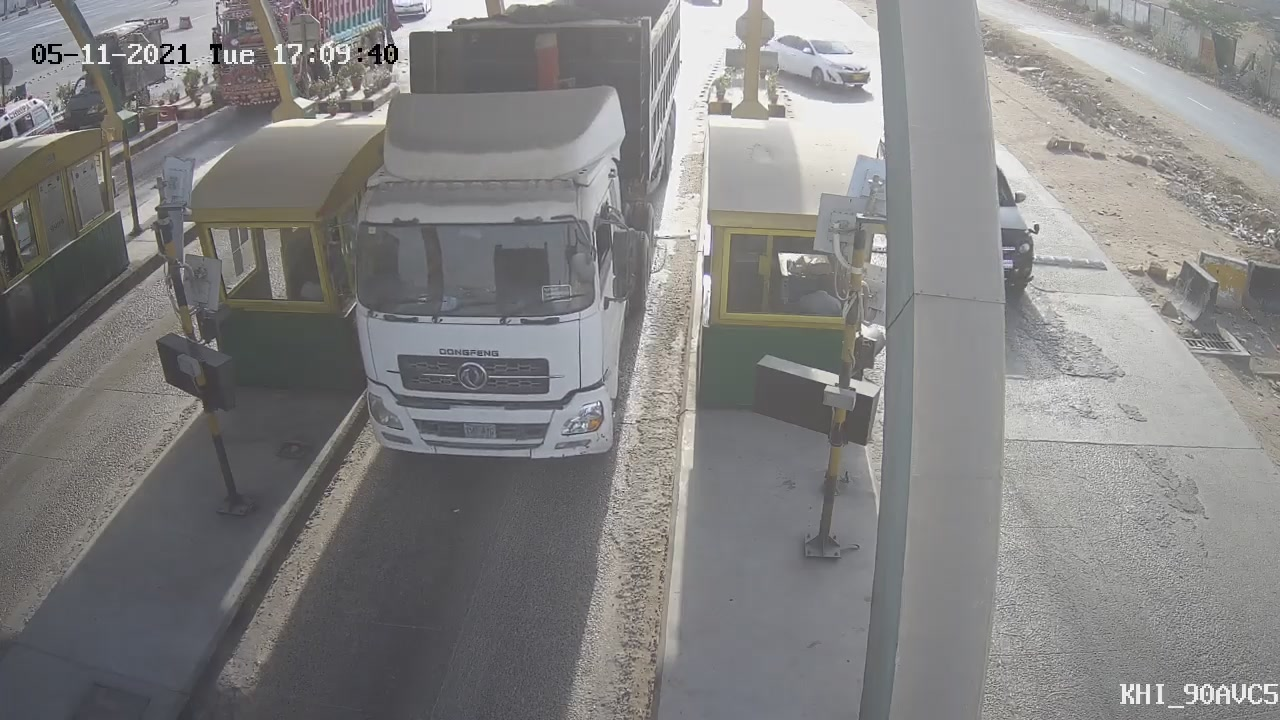F6: (303, 4, 704, 479)
